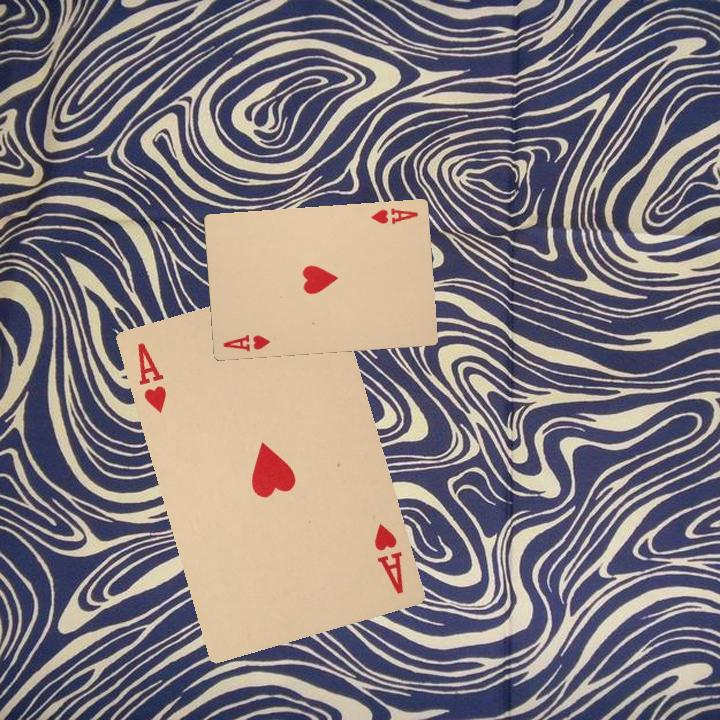Ah: (370, 519, 406, 597), (133, 338, 169, 416), (219, 331, 272, 354), (367, 203, 420, 226)
